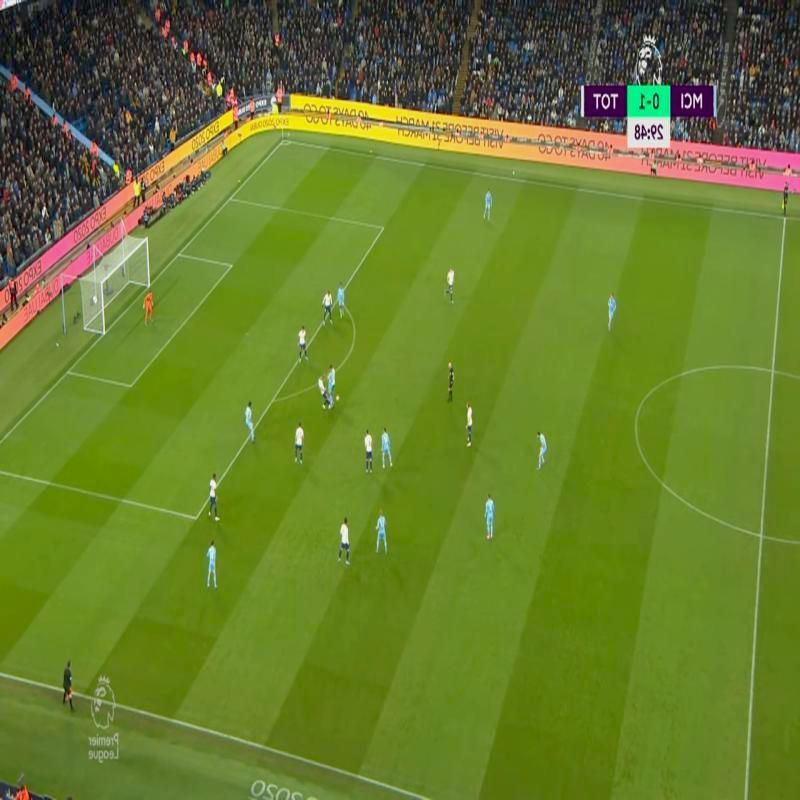1: (275, 133, 292, 149)
10: (330, 290, 346, 308)
11: (265, 393, 281, 410)
12: (190, 512, 204, 526)
13: (775, 211, 791, 228)
14: (762, 360, 781, 380)
15: (751, 526, 771, 546)
2: (220, 193, 236, 208)
3: (172, 247, 186, 262)
4: (60, 364, 76, 380)
7: (225, 258, 239, 272)
8: (122, 378, 138, 396)
9: (375, 219, 389, 233)
c: (628, 412, 642, 428)
